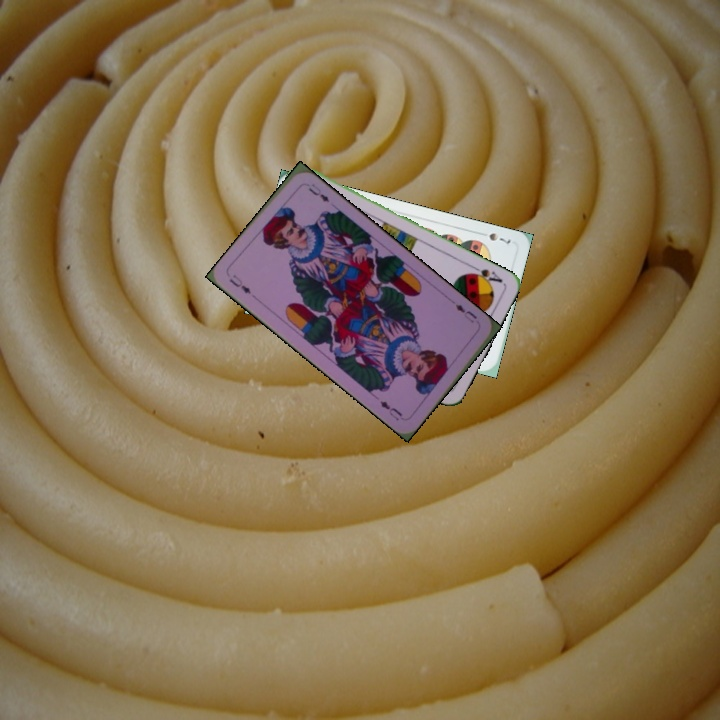EU: (451, 300, 479, 326), (225, 270, 253, 296)
S7: (485, 229, 514, 246)
SA: (465, 262, 505, 287)
